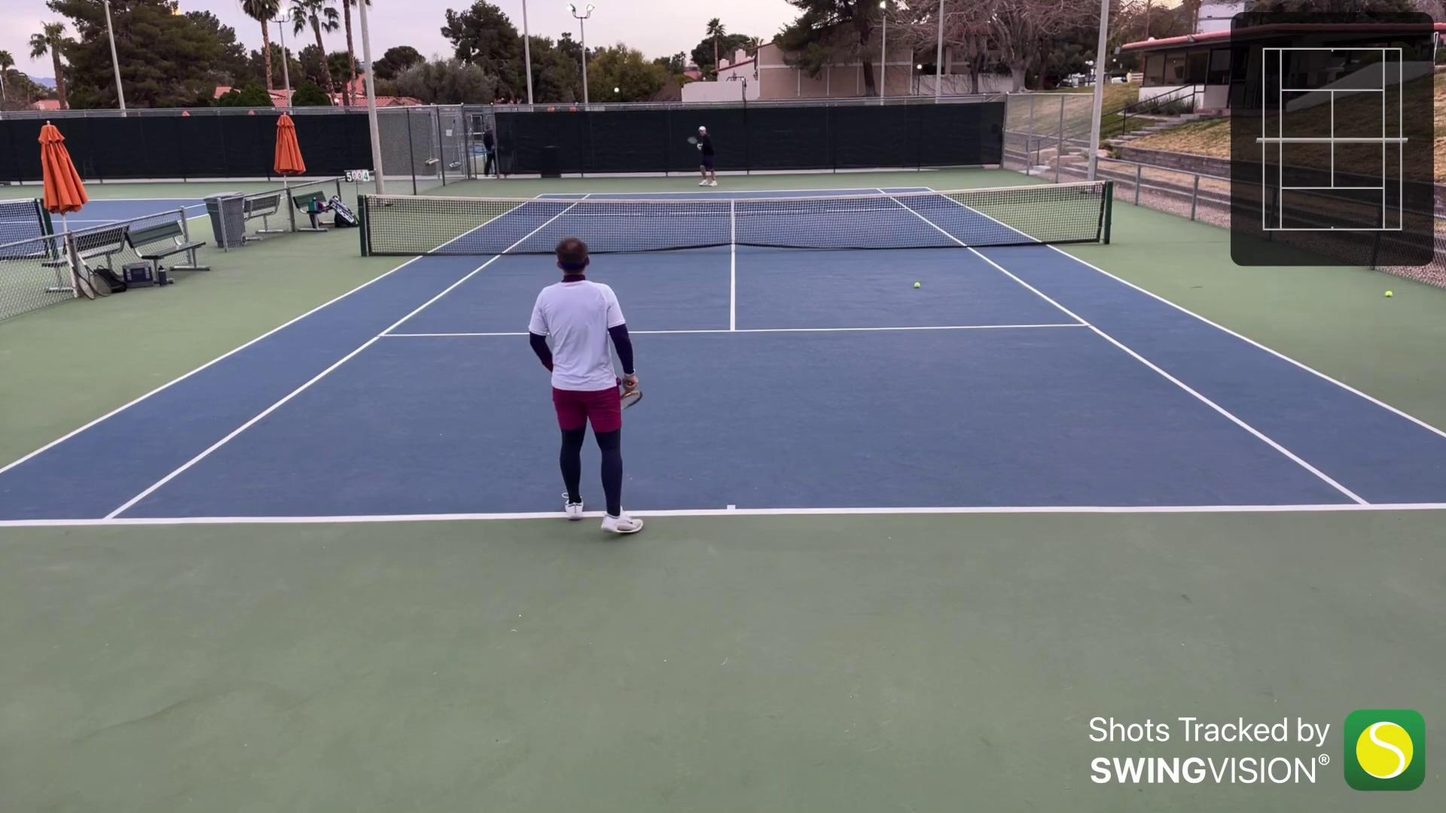ball: (912, 279, 921, 289)
